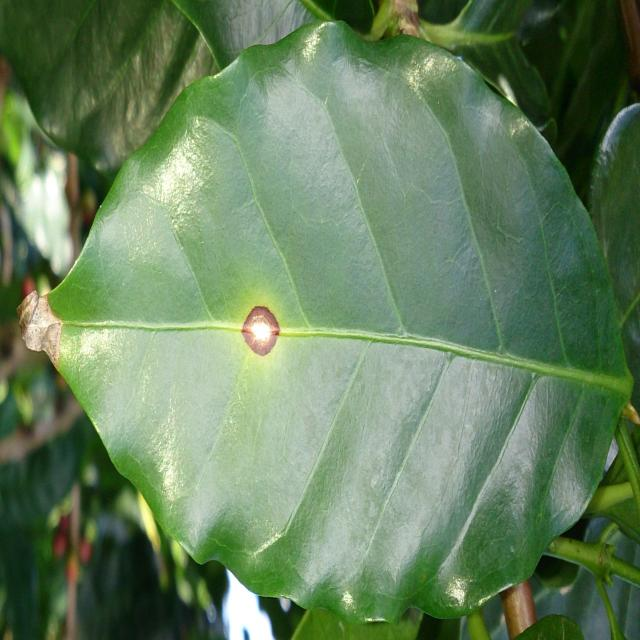Enfermedad-Mancha-de-hierro: (21, 22, 632, 623)
